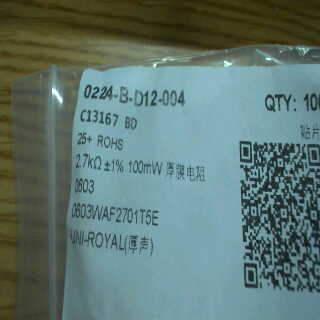2.7kR: (73, 153, 103, 171)
